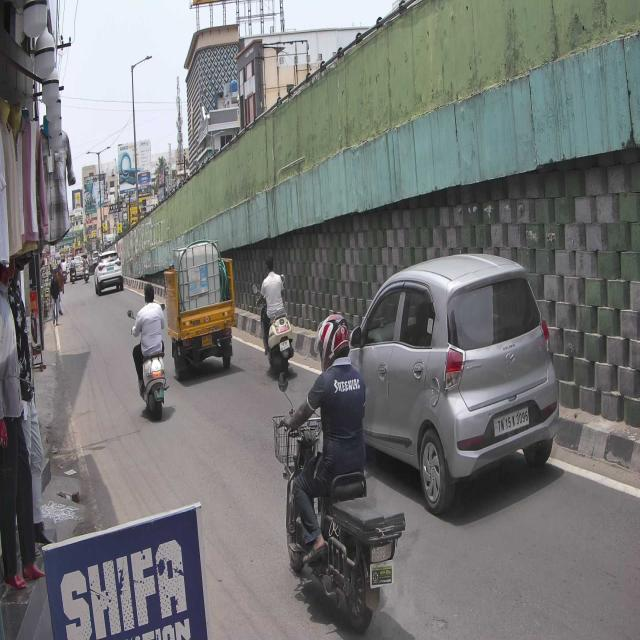single_rider: (279, 311, 407, 640)
